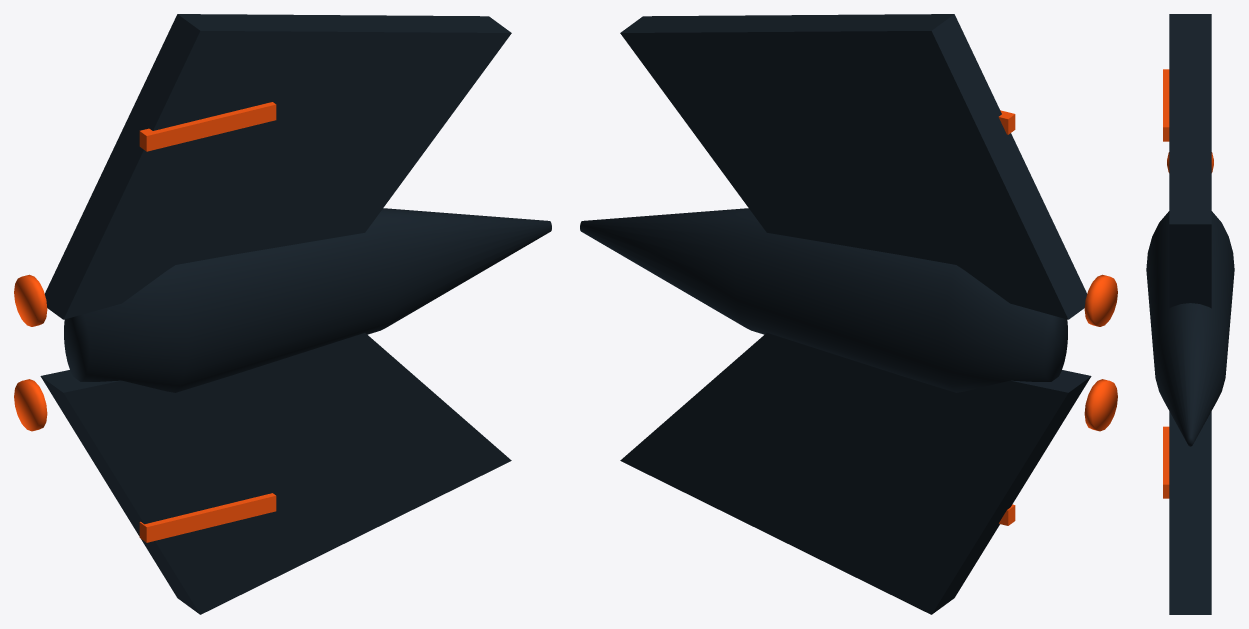
The model's file is SM_Flanker.obj.
3 views of the same model, side by side, from view 1: azimuth 30°, elevation 25°; view 2: azimuth 150°, elevation 25°; view 3: azimuth 270°, elevation 25° (orthographic). The views are drawn at different scales.
Parts seen in each view (by area): view 1: SM_Flanker; view 2: SM_Flanker; view 3: SM_Flanker.
Boxes of the visible parts, x1,y1,x2,y2 form: SM_Flanker: (14, 14, 551, 614); SM_Flanker: (580, 14, 1117, 614); SM_Flanker: (1146, 14, 1234, 614).
Size of the model in its own units: 210 by 224 by 33.6.
